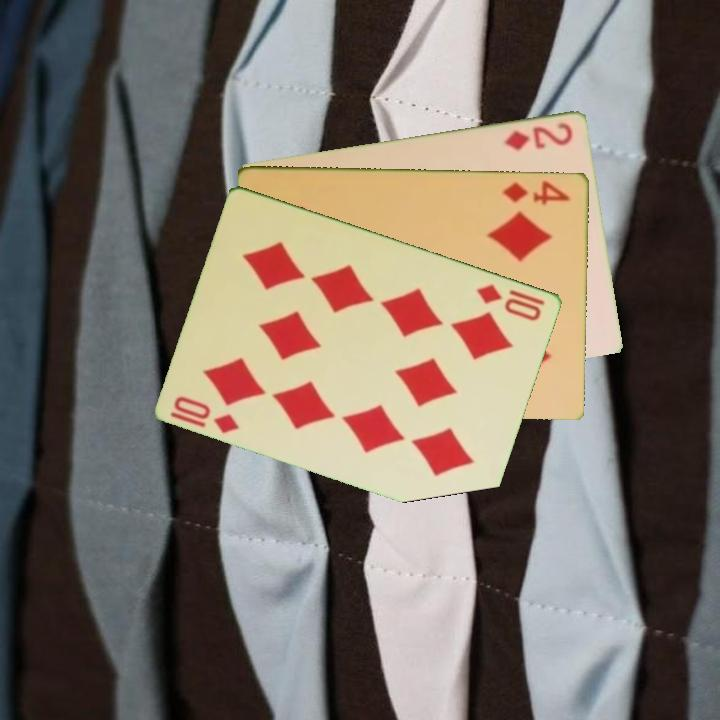10d: (167, 392, 243, 437), (474, 280, 545, 324)
2d: (501, 118, 576, 152)
4d: (500, 176, 574, 208)
